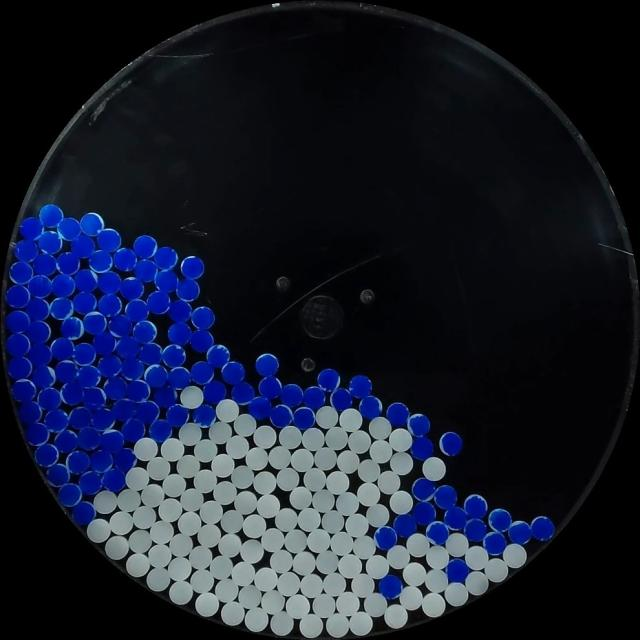pmmma-blanca: (361, 500, 392, 528), (239, 537, 269, 564), (307, 527, 334, 556), (194, 523, 220, 550), (352, 535, 380, 560), (124, 466, 150, 492), (167, 556, 193, 582), (128, 527, 153, 554), (334, 491, 361, 516), (174, 455, 202, 479), (464, 545, 489, 571), (158, 497, 183, 523), (198, 500, 223, 526), (244, 606, 269, 632), (220, 600, 245, 626), (336, 553, 362, 578), (350, 572, 376, 597), (125, 552, 150, 577), (133, 436, 158, 461), (194, 592, 219, 617), (484, 557, 509, 582), (376, 469, 401, 494), (347, 611, 372, 636), (255, 494, 280, 519), (169, 531, 194, 556), (464, 570, 488, 596), (231, 560, 255, 586), (211, 453, 235, 479), (269, 610, 293, 636), (108, 511, 134, 535), (253, 566, 279, 590), (216, 535, 243, 558), (388, 427, 412, 452), (502, 543, 526, 568), (443, 582, 468, 606), (168, 580, 193, 604), (421, 592, 445, 617), (162, 472, 186, 497), (87, 517, 111, 542), (146, 568, 171, 592), (233, 490, 258, 514), (242, 513, 266, 538), (335, 592, 359, 617), (189, 569, 214, 593), (302, 466, 326, 491), (92, 490, 117, 514), (132, 505, 157, 529), (176, 510, 201, 534), (316, 550, 340, 575), (277, 572, 302, 596), (386, 545, 410, 570), (425, 570, 450, 594), (425, 546, 450, 570), (211, 481, 237, 504), (150, 517, 173, 543), (221, 510, 244, 536), (331, 529, 354, 555), (322, 573, 348, 596), (422, 456, 446, 480), (389, 490, 413, 514), (105, 535, 129, 559), (252, 425, 276, 449), (356, 482, 380, 506), (444, 532, 468, 556), (252, 471, 276, 495), (215, 398, 239, 422), (296, 507, 320, 531), (398, 586, 422, 610), (260, 590, 284, 614), (289, 486, 313, 510), (244, 446, 268, 470), (293, 552, 317, 576), (300, 573, 324, 597), (384, 603, 407, 628), (160, 437, 183, 462), (214, 578, 237, 603), (357, 458, 380, 483), (347, 430, 372, 453), (192, 470, 217, 493), (339, 408, 362, 432), (315, 405, 338, 429), (325, 470, 348, 494), (299, 613, 322, 637), (286, 594, 309, 618), (326, 614, 349, 638), (299, 614, 322, 638), (232, 465, 255, 489), (280, 425, 303, 449), (291, 448, 314, 472), (390, 452, 413, 476), (368, 417, 392, 440), (142, 484, 165, 508), (149, 544, 172, 568), (302, 426, 324, 451), (146, 458, 171, 480), (268, 551, 293, 573), (407, 533, 429, 558), (324, 428, 350, 449), (180, 385, 203, 408), (209, 422, 232, 445), (370, 441, 393, 464), (117, 488, 140, 511), (402, 562, 425, 585), (179, 422, 201, 446), (234, 412, 256, 436), (226, 436, 248, 460), (269, 446, 291, 470), (277, 468, 301, 490), (286, 528, 308, 552), (312, 489, 336, 511), (363, 594, 388, 615), (180, 488, 202, 511), (422, 457, 445, 479), (277, 507, 298, 531), (366, 555, 390, 576), (238, 587, 262, 608), (209, 558, 234, 578), (315, 449, 337, 471), (191, 547, 213, 569), (264, 529, 286, 551), (314, 596, 336, 618), (195, 438, 218, 459), (339, 450, 360, 473), (348, 513, 369, 535), (322, 511, 344, 532)
